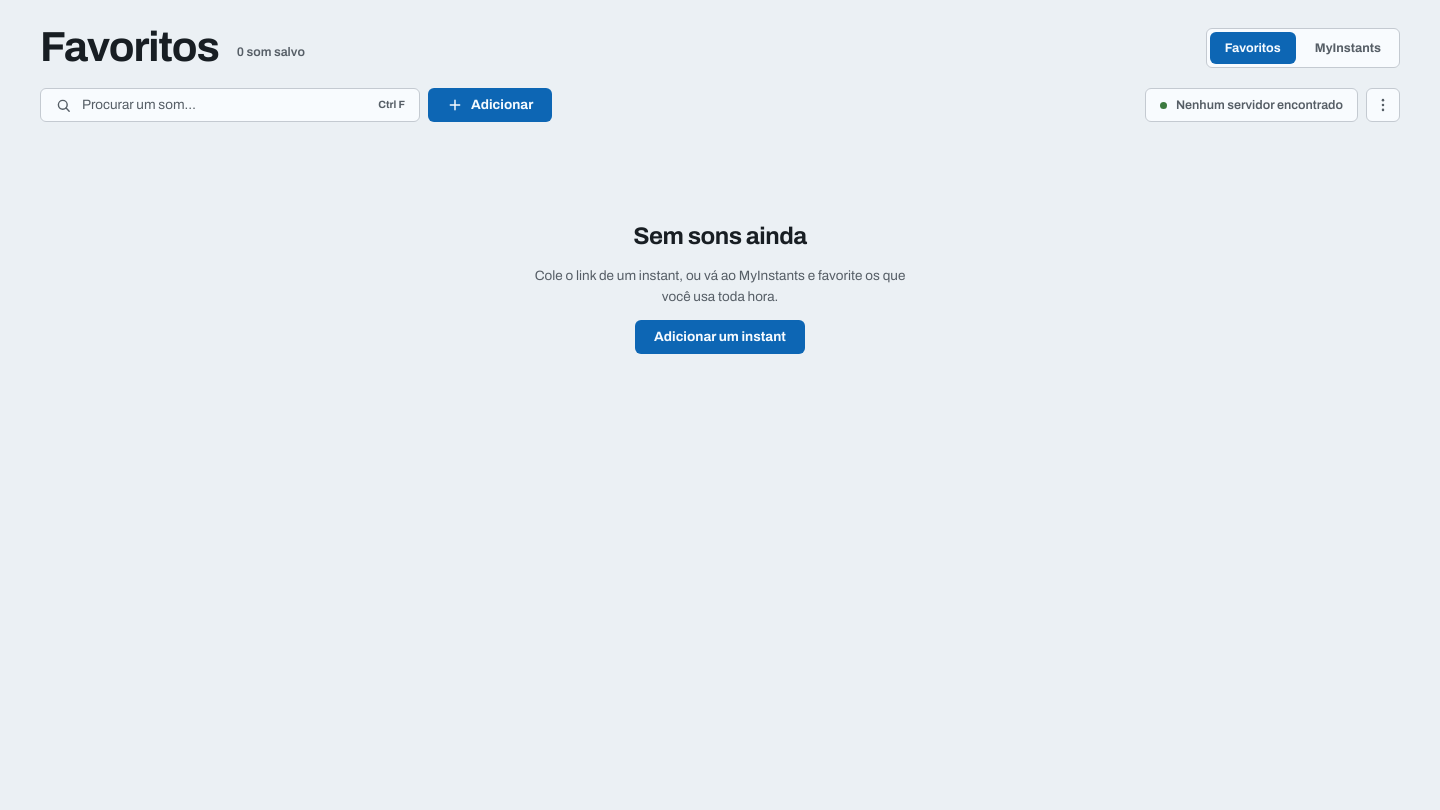
it: shell › puts palette and mode back on Cancelar
Click the button named "Mais opções".
click(1383, 105)  # box top-left (1366, 88), bottom-right (1400, 122)
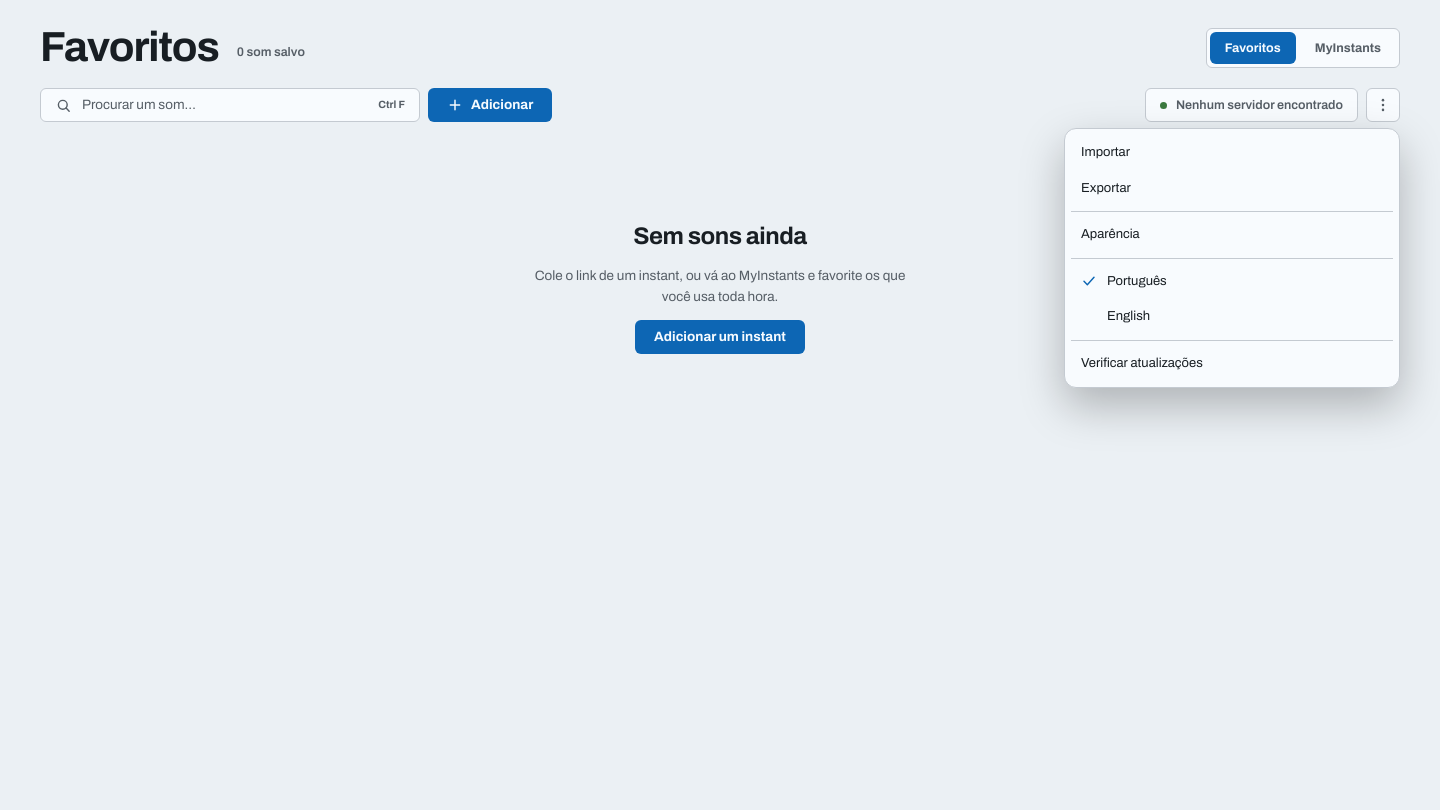
Click the menu item "Aparência".
click(1110, 234)  # box top-left (1081, 227), bottom-right (1140, 241)
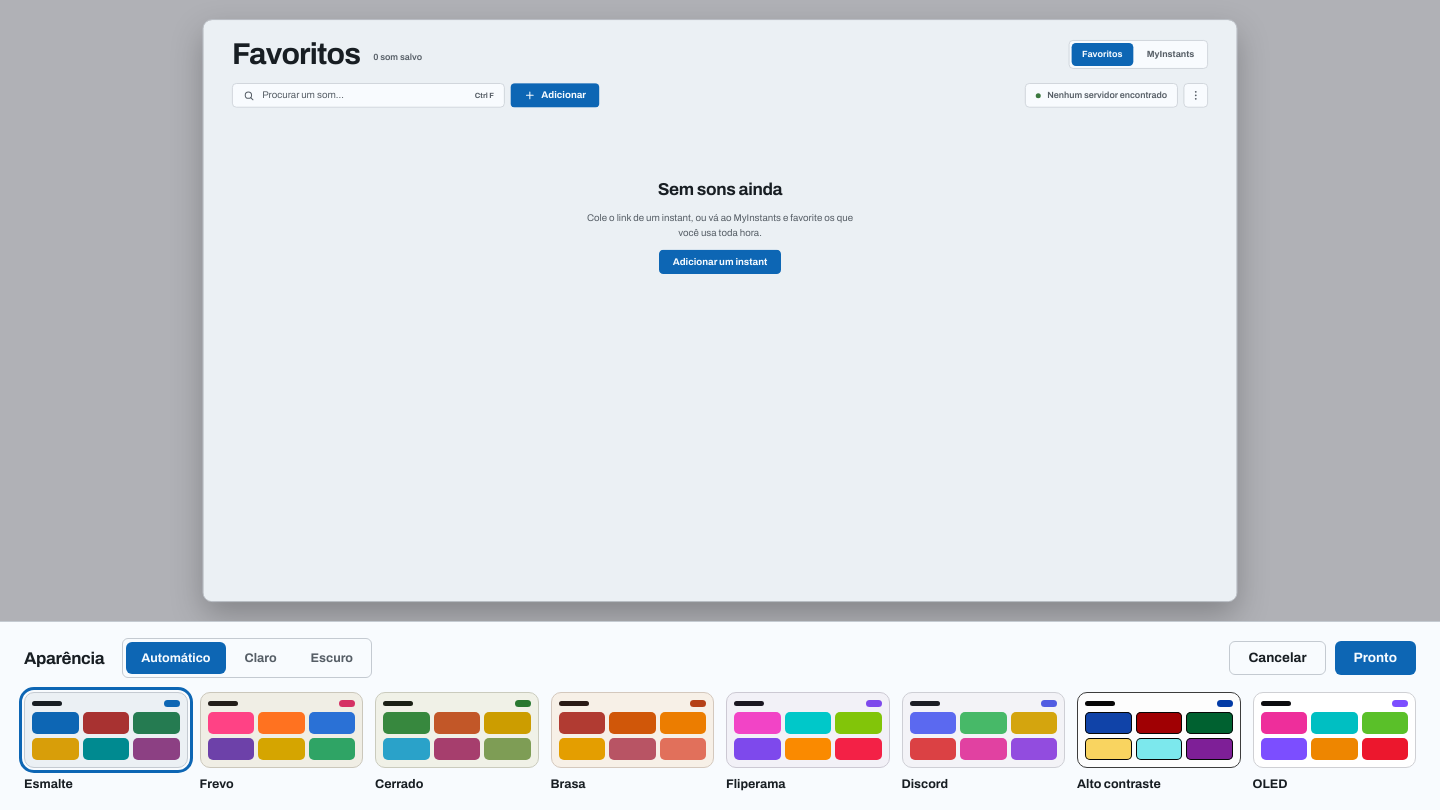
Click the radio button labelled "Fliperama".
click(808, 743)  # box top-left (726, 692), bottom-right (890, 794)
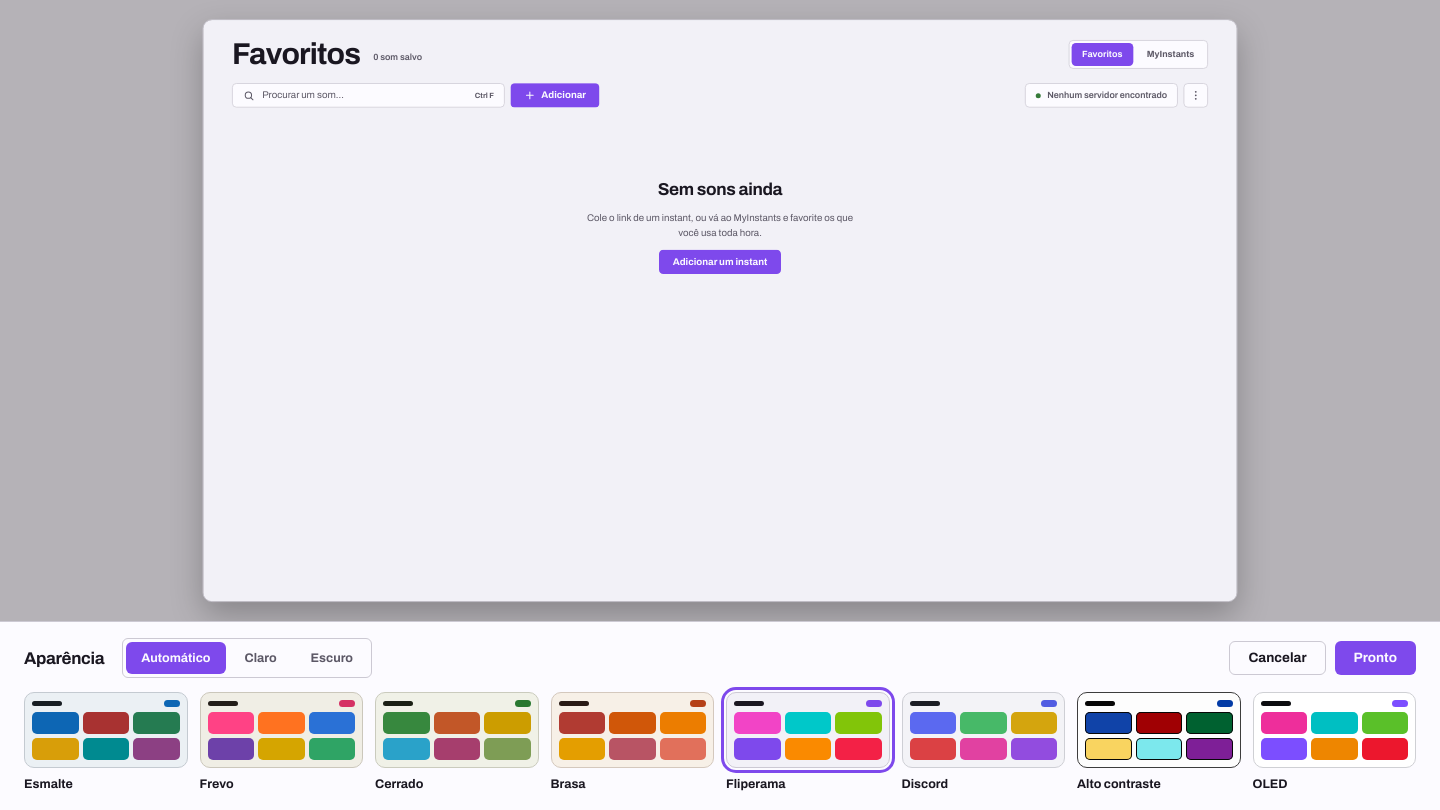
Click the radio button labelled "Escuro".
click(332, 658)  # box top-left (296, 642), bottom-right (368, 674)
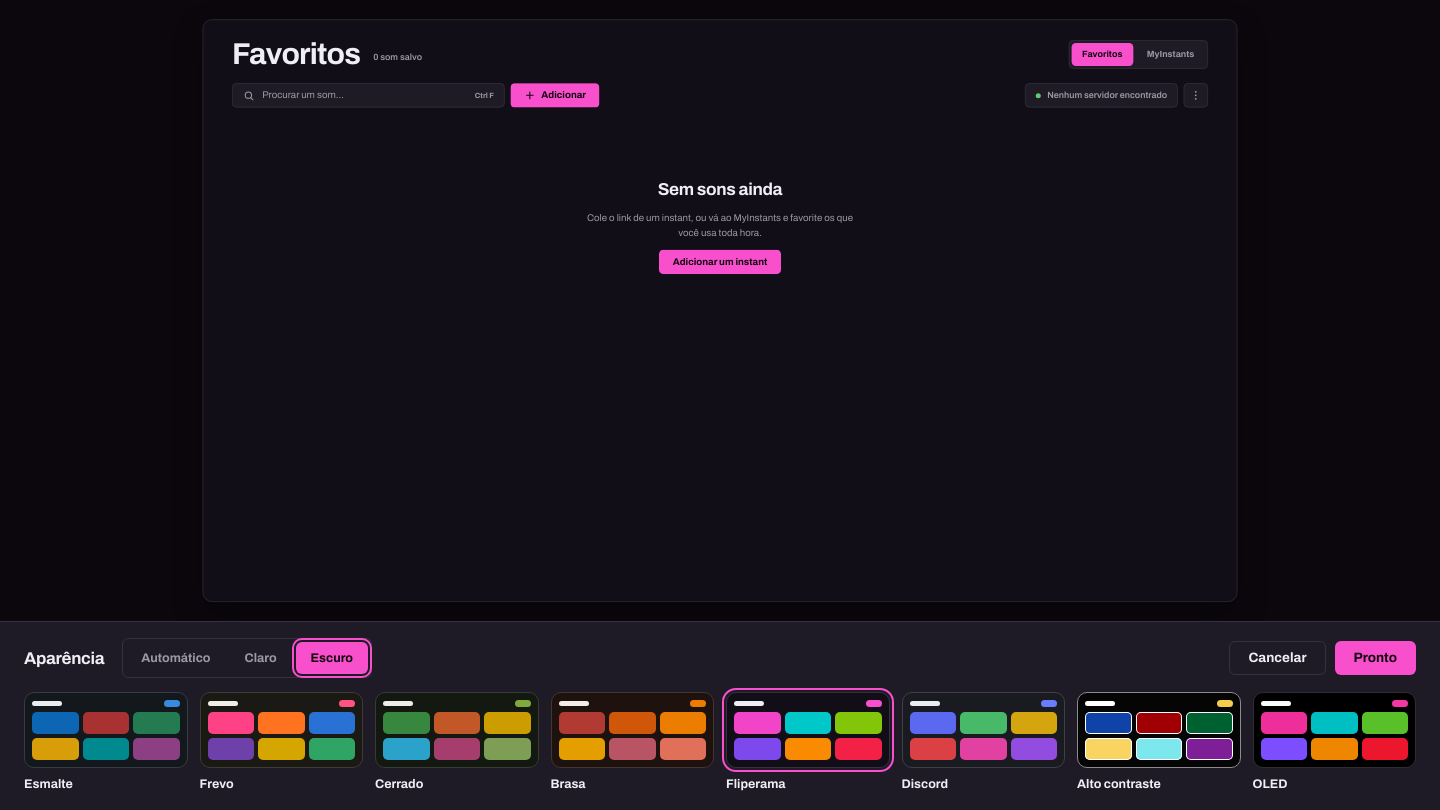
Click the button "Cancelar".
click(1278, 658)  # box top-left (1230, 641), bottom-right (1326, 675)
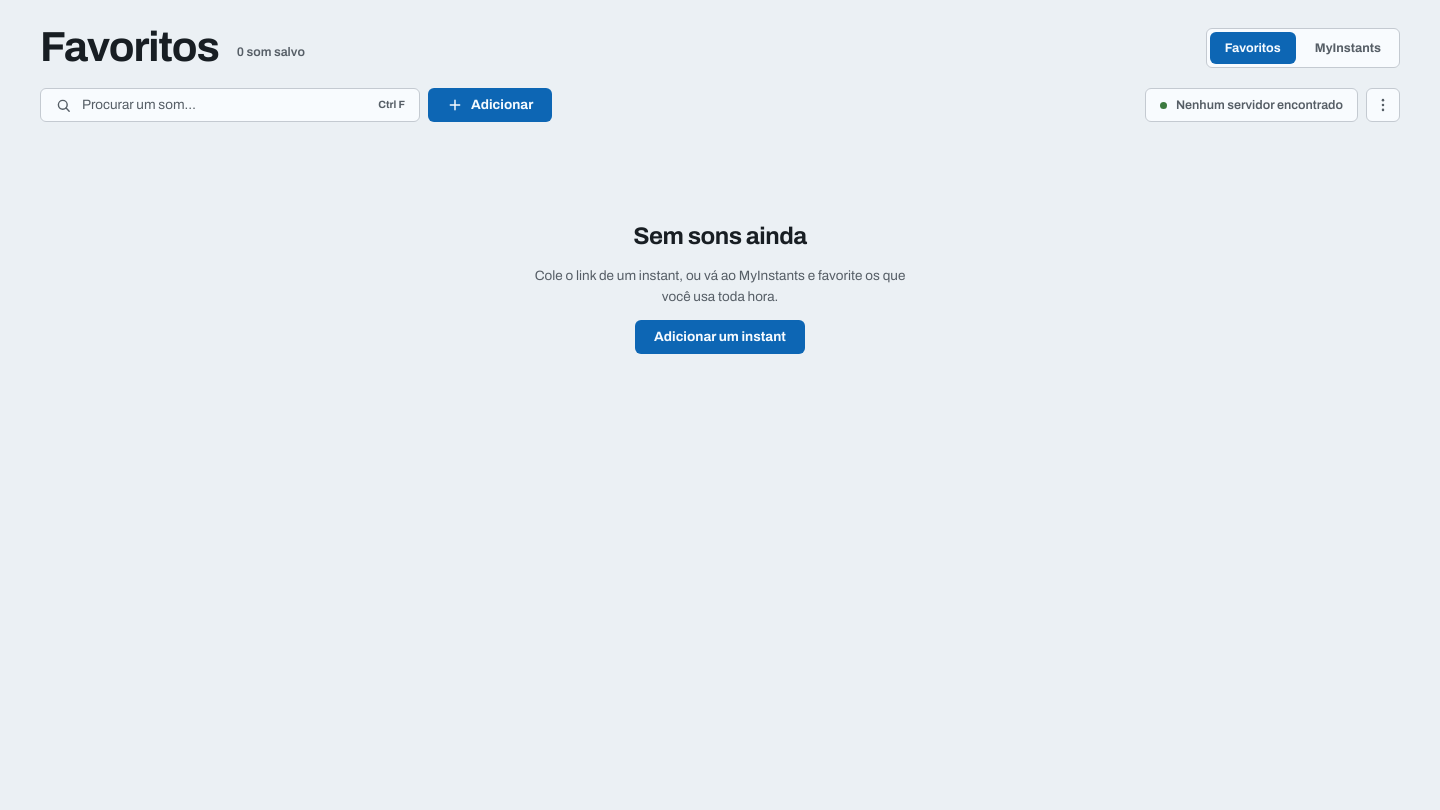
Expected: the heading "Aparência" is gone
